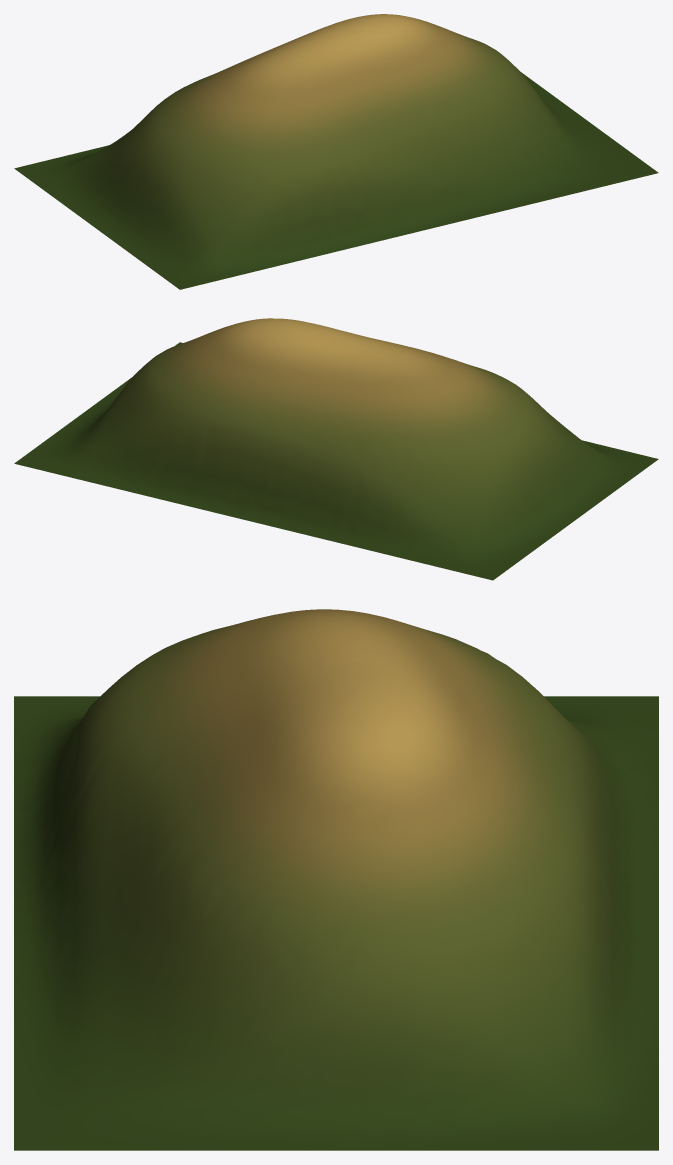
The model's file is Rolling_Small.fbx.
3 views of the same model, one above another, from view 1: azimuth 30°, elevation 25°; view 2: azimuth 150°, elevation 25°; view 3: azimuth 270°, elevation 25° (orthographic). The views are drawn at different scales.
Parts seen in each view (by area): view 1: Rolling_Small; view 2: Rolling_Small; view 3: Rolling_Small.
Boxes of the visible parts, left/top/right/bottom form: Rolling_Small: left=14, top=14, right=658, bottom=289; Rolling_Small: left=14, top=318, right=658, bottom=580; Rolling_Small: left=14, top=609, right=658, bottom=1150.
Size of the model in its own units: 1200 by 319 by 720.
